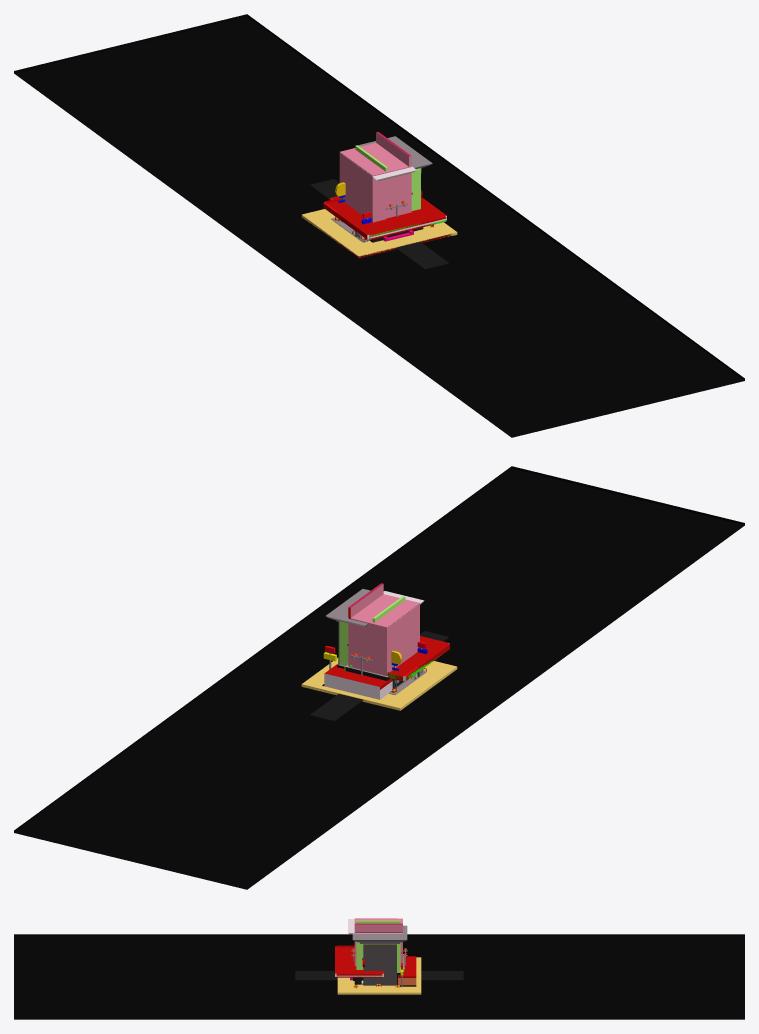
File: Cevdet Dress Runner.fbx
3 views of the same model, one above another, from view 1: azimuth 30°, elevation 25°; view 2: azimuth 150°, elevation 25°; view 3: azimuth 270°, elevation 25° (orthographic). The views are drawn at different scales.
Visible parts, largest first — view 1: Plane, AWM'li otel (kahve), kırmızı petrol, ARABA YOLU, AWM'li otel (krem)_B; view 2: Plane, AWM'li otel (kahve), kırmızı petrol, ARABA YOLU, AWM'li otel (krem)_B; view 3: Plane, kırmızı petrol, pembe otel.001_B, AWM'li otel (kahve), ARABA YOLU, AWM'li otel (krem)_B.
Boxes of the visible parts, <box> form: Plane: <box>14,14,744,437</box>; AWM'li otel (kahve): <box>339,132,433,242</box>; kırmızı petrol: <box>301,196,457,257</box>; ARABA YOLU: <box>310,179,448,269</box>; AWM'li otel (krem)_B: <box>334,145,423,240</box>; Plane: <box>14,466,744,889</box>; AWM'li otel (kahve): <box>323,583,419,688</box>; kırmızı petrol: <box>301,636,457,710</box>; ARABA YOLU: <box>310,631,448,721</box>; AWM'li otel (krem)_B: <box>337,596,427,692</box>; Plane: <box>14,934,744,1019</box>; kırmızı petrol: <box>335,945,421,994</box>; pembe otel.001_B: <box>352,925,407,985</box>; AWM'li otel (kahve): <box>353,918,404,988</box>; ARABA YOLU: <box>295,971,463,980</box>; AWM'li otel (krem)_B: <box>354,920,400,984</box>.
Size of the model in its own units: 3184 by 1043 by 11772.
